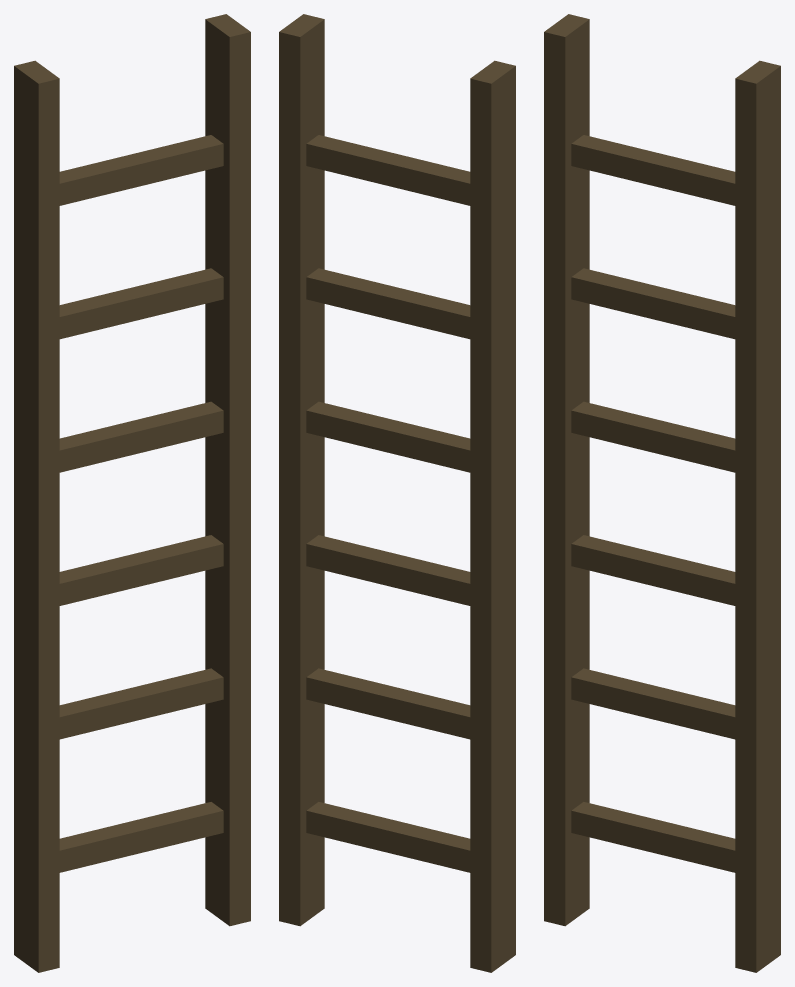
File: roman_ladder.fbx
The picture shows the model from 3 angles, left to right: view 1: azimuth 30°, elevation 25°; view 2: azimuth 150°, elevation 25°; view 3: azimuth 330°, elevation 25°; orthographic projection.
Visible parts, largest first — view 1: Cube.073; view 2: Cube.073; view 3: Cube.073.
Boxes of the visible parts, x1,y1,x2,y2 form: Cube.073: [14, 14, 250, 972]; Cube.073: [279, 14, 515, 972]; Cube.073: [544, 14, 780, 972].
Size of the model in its own units: 1 by 4 by 0.2.
